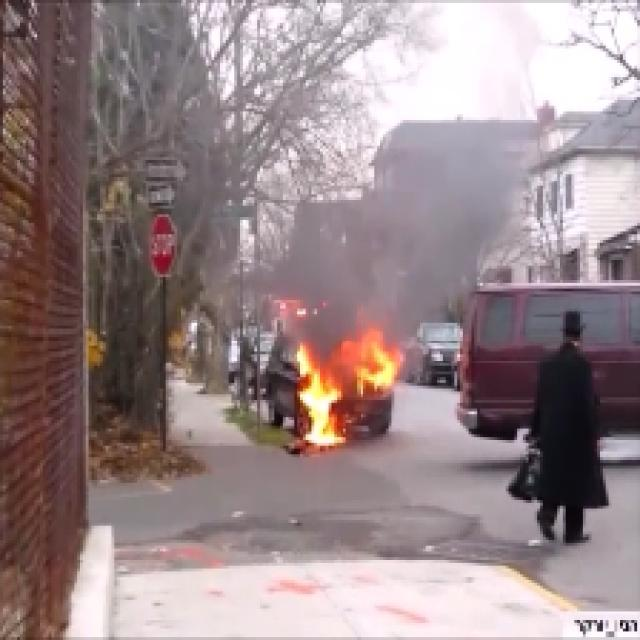fire: (293, 349, 340, 460), (358, 342, 396, 392)
smoke: (271, 223, 446, 331), (391, 163, 499, 215)
